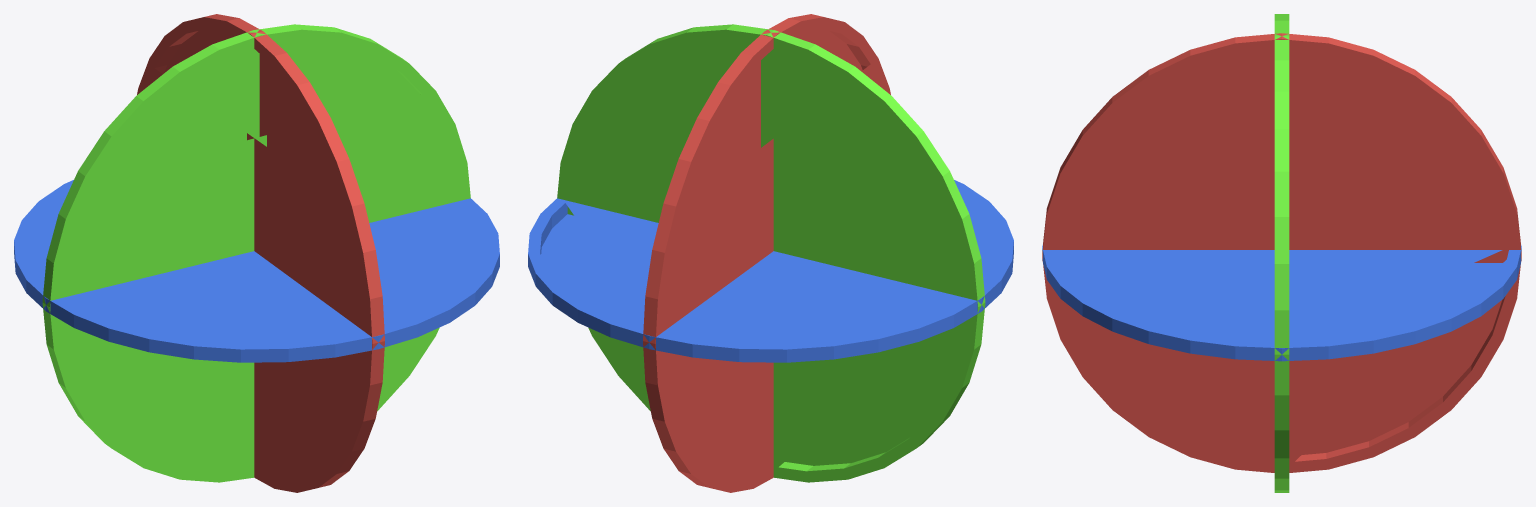
File: rotation.fbx
3 views of the same model, side by side, from view 1: azimuth 30°, elevation 25°; view 2: azimuth 150°, elevation 25°; view 3: azimuth 270°, elevation 25° (orthographic).
Visible parts, largest first — view 1: Z, X, Y; view 2: Z, X, Y; view 3: X, Y, Z.
Part boxes in pixels (x1=…): Z: x1=42, y1=24, x2=470, y2=482; X: x1=137, y1=14, x2=384, y2=492; Y: x1=14, y1=180, x2=499, y2=362; Z: x1=557, y1=24, x2=985, y2=482; X: x1=643, y1=14, x2=890, y2=492; Y: x1=528, y1=180, x2=1013, y2=362; X: x1=1042, y1=33, x2=1521, y2=472; Y: x1=1042, y1=245, x2=1521, y2=361; Z: x1=1274, y1=14, x2=1289, y2=492.
Size of the model in its own units: 2 by 2 by 2.
